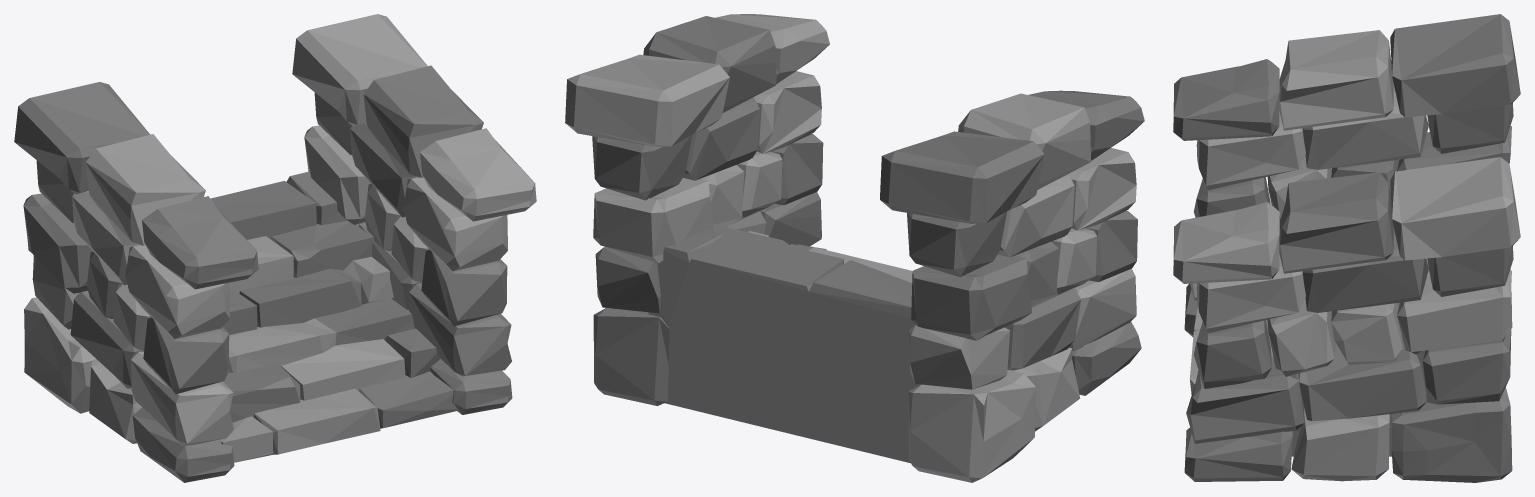
Rendered from _STSAIRS_07_1.fbx.
3 renders of one model, left to right at view 1: azimuth 30°, elevation 25°; view 2: azimuth 150°, elevation 25°; view 3: azimuth 270°, elevation 25°, orthographic. The views are drawn at different scales.
Visible parts, largest first — view 1: STSAIRS_07_1; view 2: STSAIRS_07_1; view 3: STSAIRS_07_1.
Part boxes in pixels (box(x1,y1,x2,y2)): STSAIRS_07_1: box(14, 14, 536, 482); STSAIRS_07_1: box(565, 14, 1144, 482); STSAIRS_07_1: box(1173, 14, 1520, 482).
Size of the model in its own units: 152 by 110 by 116.
